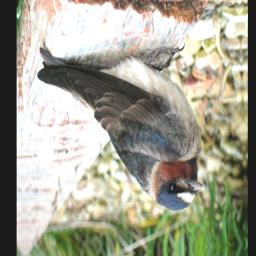Swallow: (33, 30, 210, 227)
